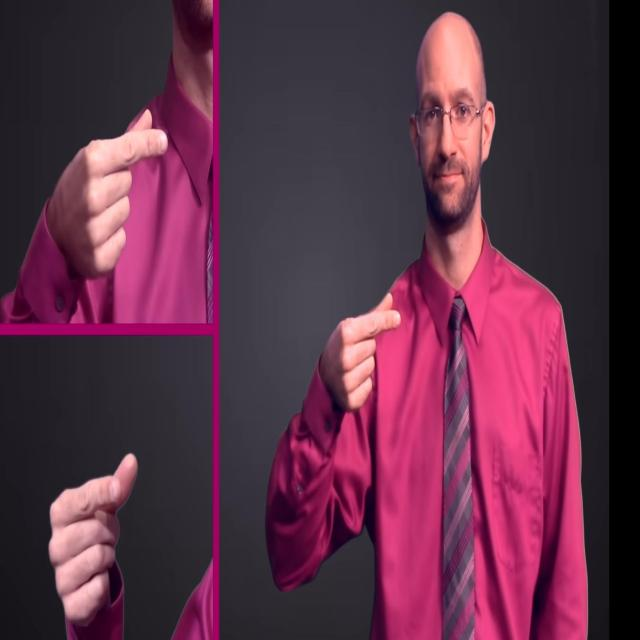G: (17, 106, 171, 279), (46, 450, 142, 640), (302, 290, 403, 416)
